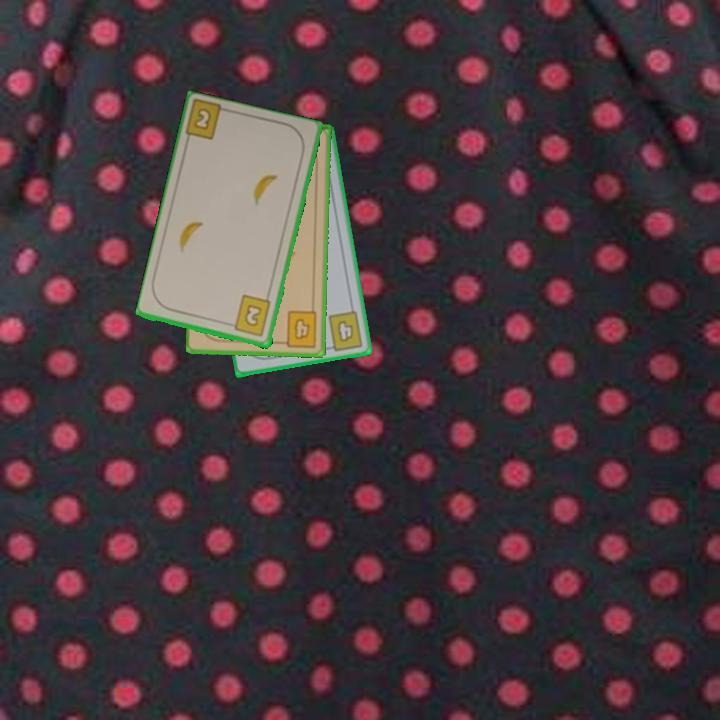2b: (226, 292, 274, 340), (190, 104, 214, 133)
4b: (322, 307, 366, 353), (276, 307, 320, 350)
